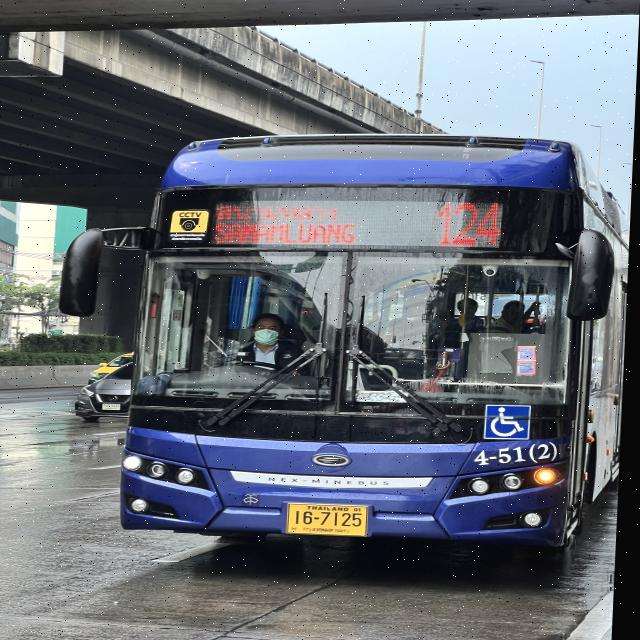Bus Line Number: (429, 194, 513, 258)
Bus Side Number: (472, 438, 567, 469)
Destination Sign: (209, 197, 368, 246)
TSB-Bus: (63, 135, 631, 554)
